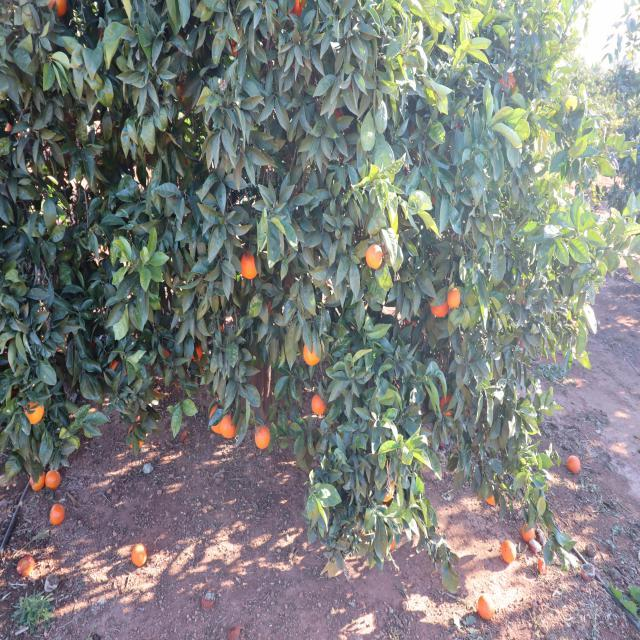Jeruk Sudah Matang: (24, 391, 51, 426), (284, 0, 315, 30), (239, 250, 262, 284), (44, 0, 78, 23), (428, 286, 450, 321), (208, 404, 232, 436), (302, 336, 326, 367), (216, 411, 238, 442), (364, 244, 386, 274), (256, 426, 276, 454), (311, 392, 332, 418), (446, 284, 463, 310)
